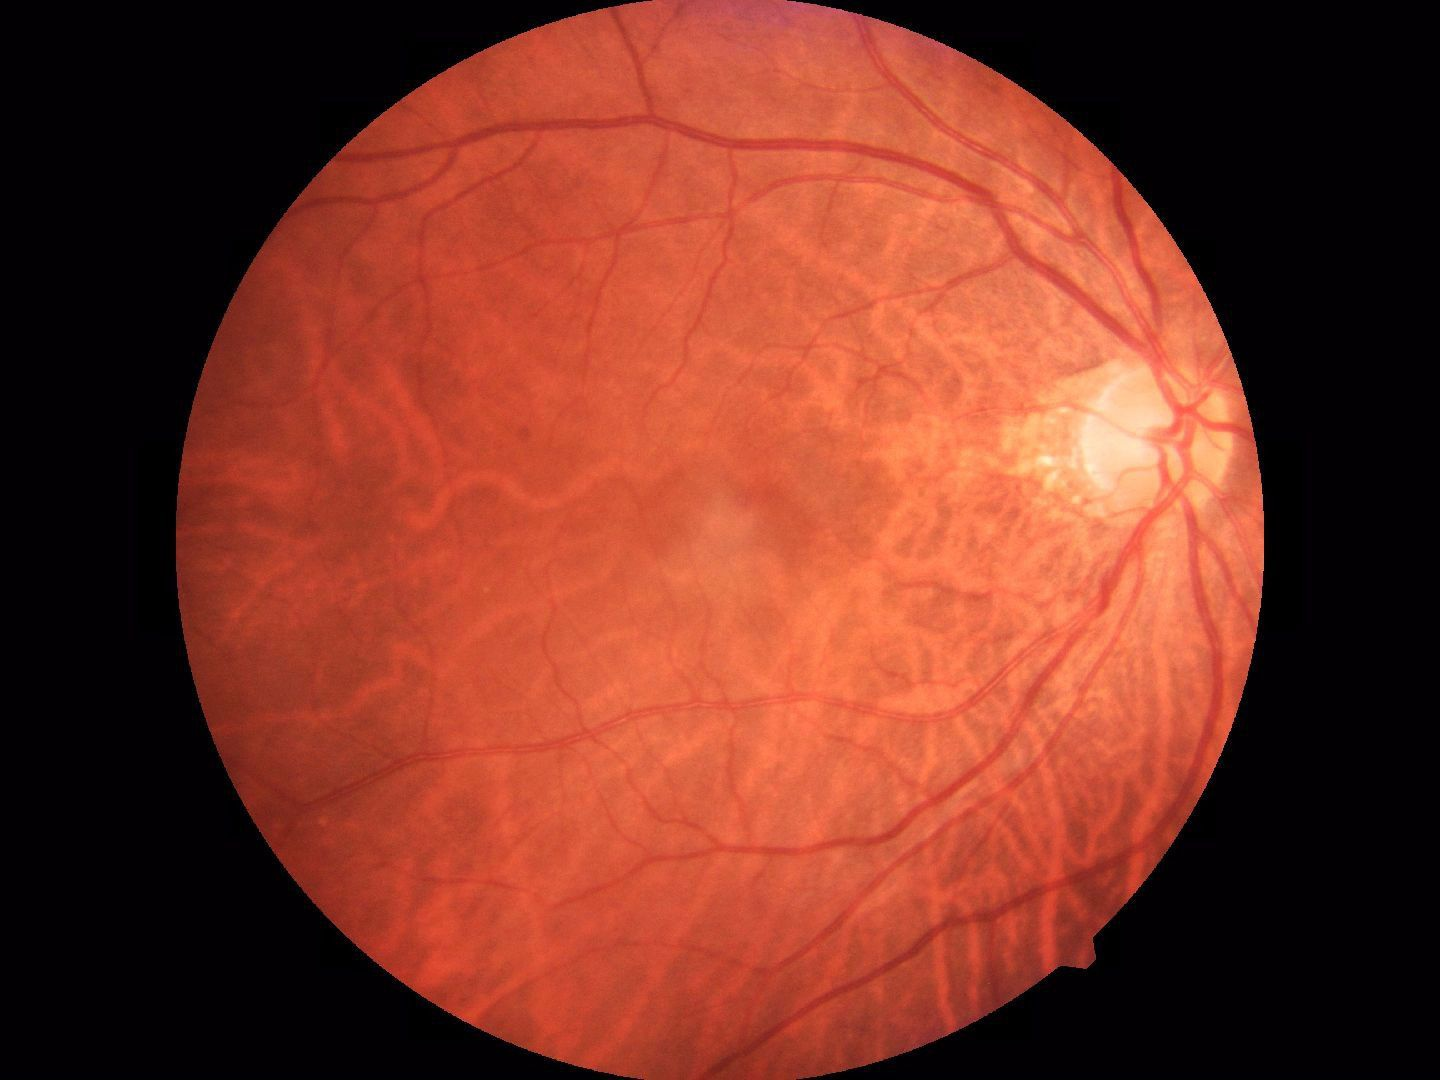Arterioles: (518, 658, 785, 853), (468, 221, 783, 371)
Optic-Disc: (1031, 347, 1250, 529)
Venules: (859, 95, 1084, 297), (949, 622, 1079, 798)
